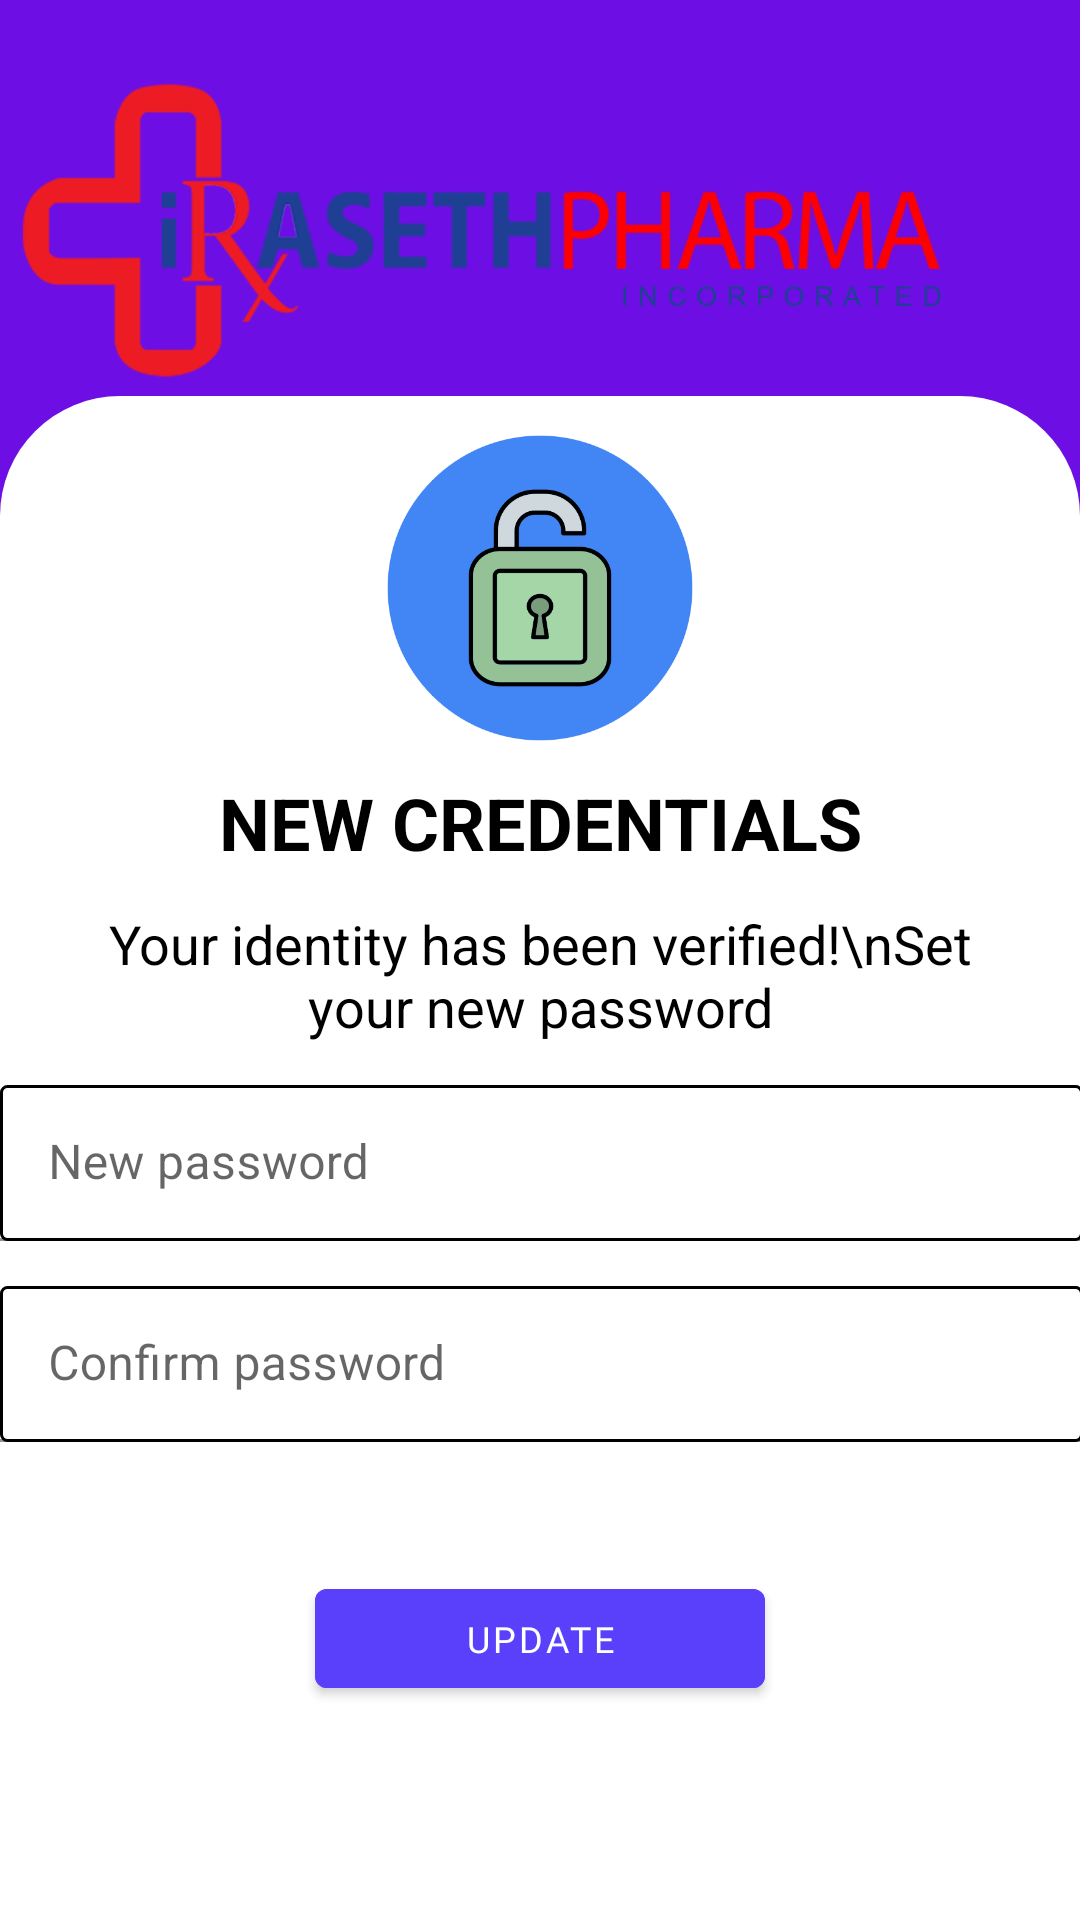

Where to tap for icons on this 1080 x 1920 app screen, as (x,y):
unlock: (540,588)
